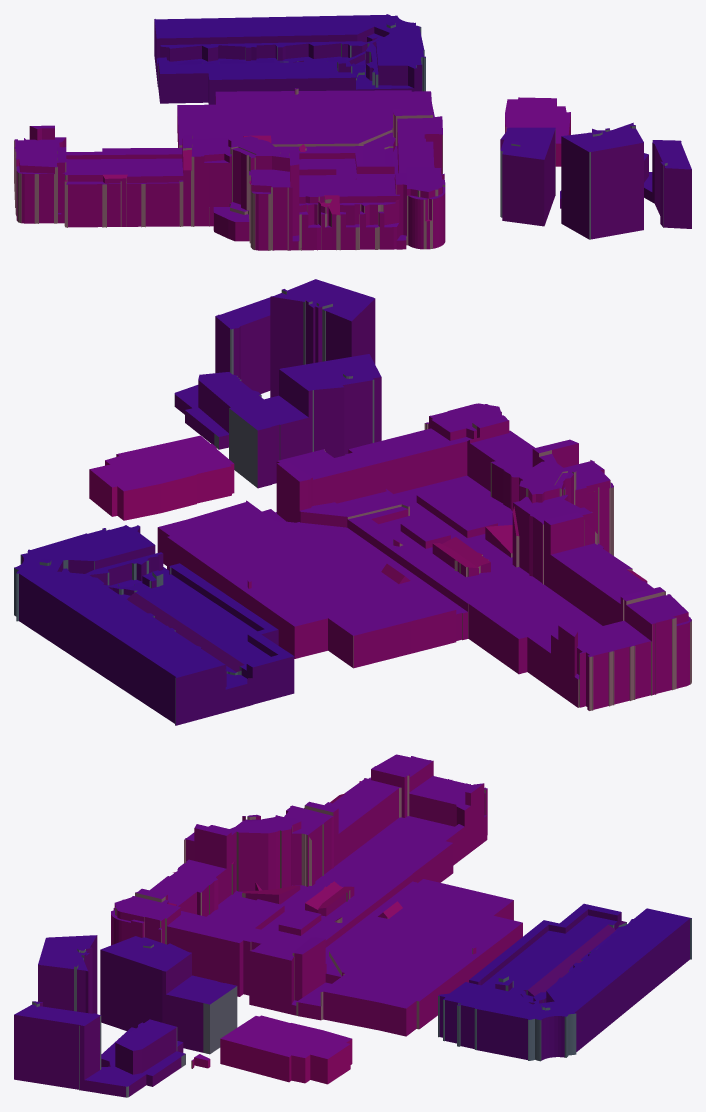
The model's file is buildings_10_8.glb.
3 renders of one model, top to bottom at view 1: azimuth 30°, elevation 25°; view 2: azimuth 150°, elevation 25°; view 3: azimuth 270°, elevation 25°, orthographic. The views are drawn at different scales.
Parts seen in each view (by area): view 1: buildings_10_8; view 2: buildings_10_8; view 3: buildings_10_8.
Boxes of the visible parts, x1=… form: buildings_10_8: x1=14, y1=14, x2=691, y2=250; buildings_10_8: x1=14, y1=279, x2=691, y2=725; buildings_10_8: x1=14, y1=754, x2=691, y2=1097.
Bounding box in the file's own units: 247 × 39.91 × 250.
